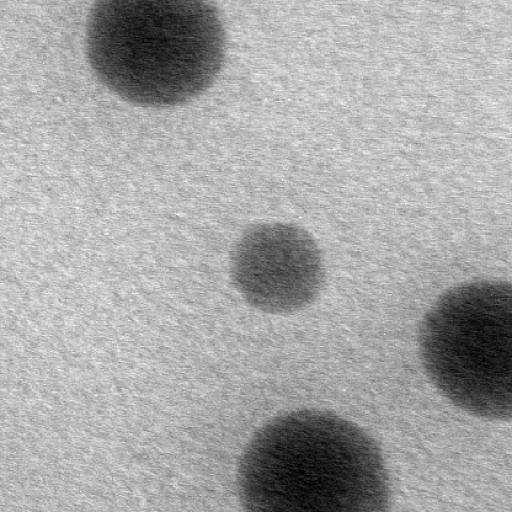Nanoparticles: (82, 0, 236, 110), (234, 406, 390, 512), (418, 282, 512, 420), (232, 218, 328, 317)
